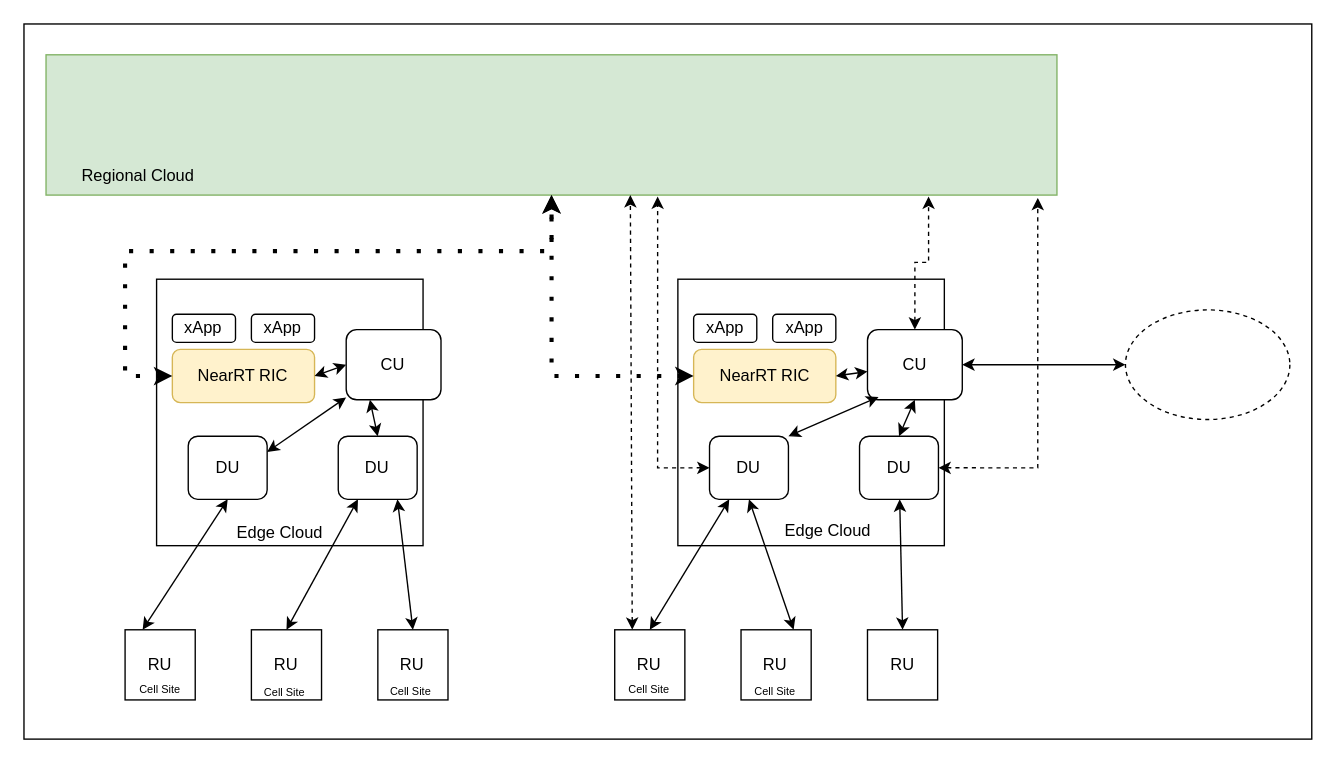
The diagram is 1336 pixels wide and 763 high, and some of its shapes have lost their labels. The box of each missing label's shape, as (x1, y1, x2, y2) in pixels:
5G Core: (1124, 309, 1290, 419)
NonRT RIC / OAM: (45, 53, 1057, 195)
